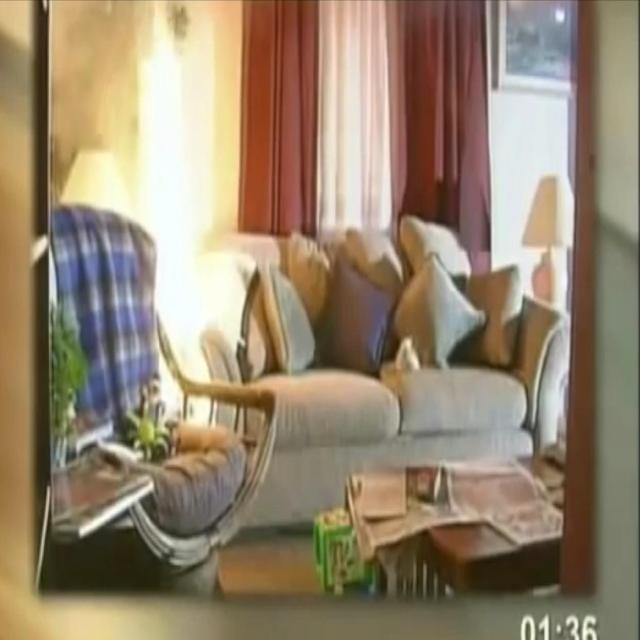smoke: (134, 18, 220, 429)
